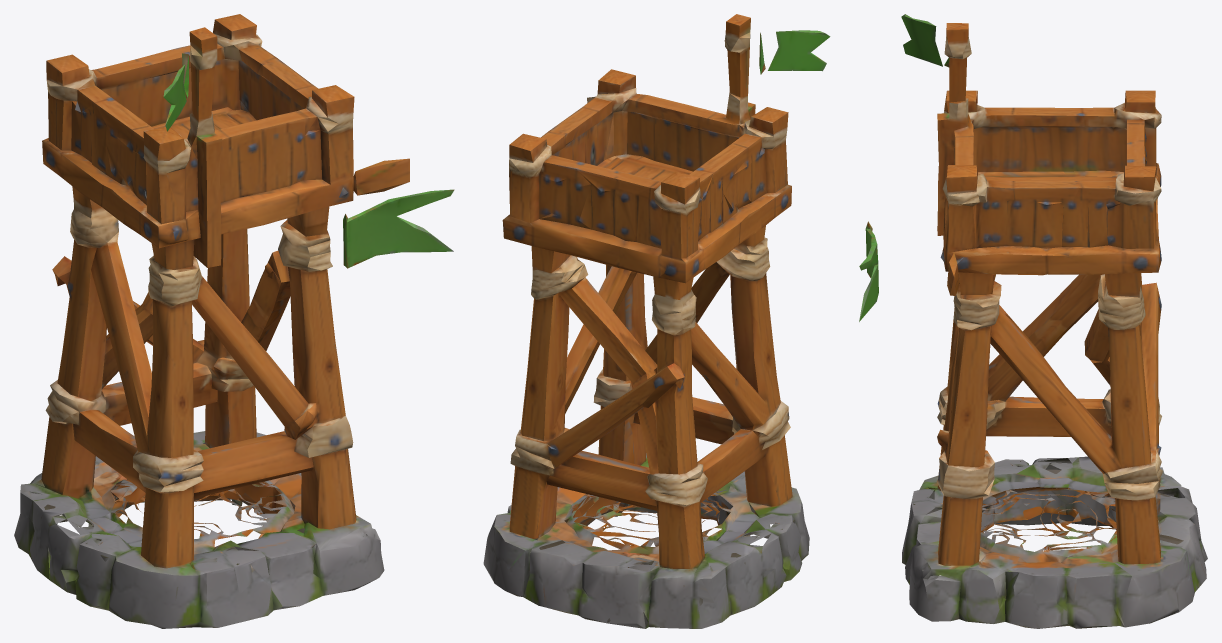
File: archer_1.glb
3 views of the same model, side by side, from view 1: azimuth 30°, elevation 25°; view 2: azimuth 150°, elevation 25°; view 3: azimuth 270°, elevation 25° (orthographic). The views are drawn at different scales.
Parts seen in each view (by area): view 1: Body; view 2: Body; view 3: Body.
Part boxes in pixels (bbox=[...]): Body: bbox=[14, 14, 454, 628]; Body: bbox=[483, 14, 830, 628]; Body: bbox=[859, 14, 1207, 628].
Bounding box in the file's own units: 2.46 × 4.47 × 2.7.
Materials: 1 (1 with a texture image).
